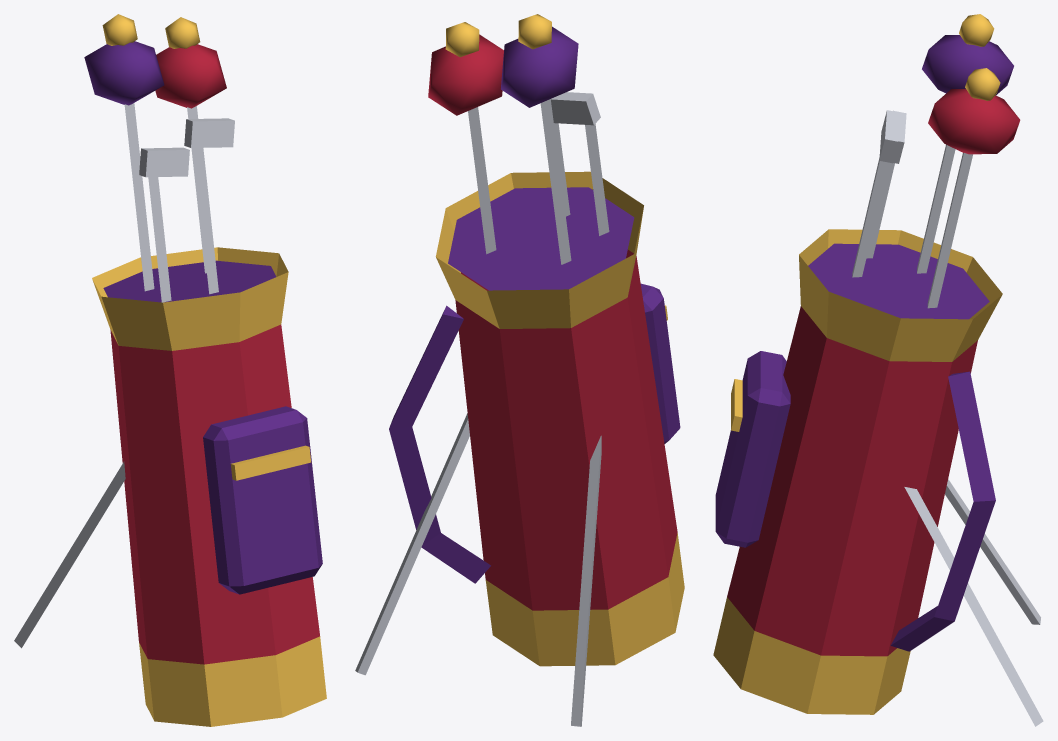
File: golf_bag.glb
3 views of the same model, side by side, from view 1: azimuth 30°, elevation 25°; view 2: azimuth 150°, elevation 25°; view 3: azimuth 270°, elevation 25° (orthographic). The views are drawn at different scales.
Parts seen in each view (by area): view 1: golf_bag; view 2: golf_bag; view 3: golf_bag.
Part boxes in pixels (bbox=[...]): golf_bag: bbox=[14, 14, 326, 726]; golf_bag: bbox=[355, 14, 684, 726]; golf_bag: bbox=[713, 14, 1043, 726].
Size of the model in its own units: 0.46 by 1.33 by 0.6017.
